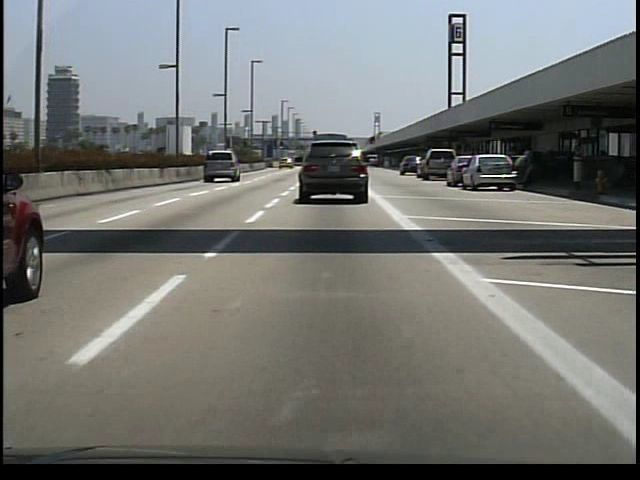person: (514, 147, 540, 190)
